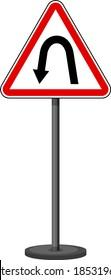Left Hair Pin Bend: (2, 0, 111, 108)
